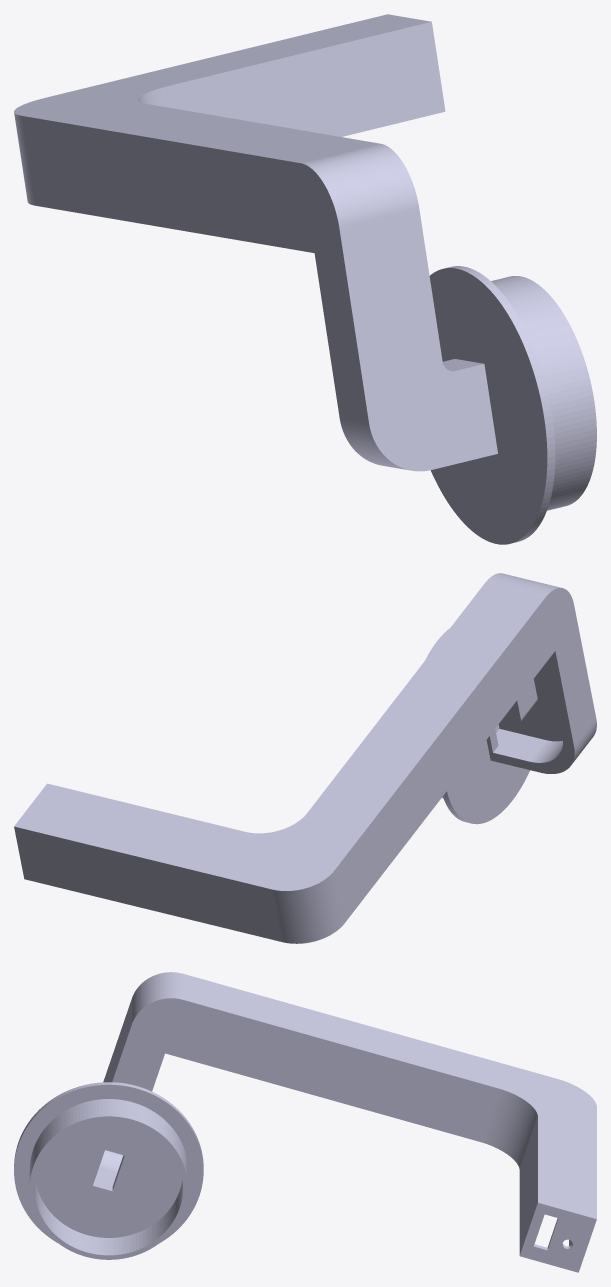
File: arducamsupport_r.dae
The picture shows the model from 3 angles, top to bottom: view 1: azimuth 30°, elevation 25°; view 2: azimuth 150°, elevation 25°; view 3: azimuth 270°, elevation 25°; orthographic projection. The views are drawn at different scales.
Visible parts, largest first — view 1: node0; view 2: node0; view 3: node0.
Part boxes in pixels (box(x1,y1,x2,y2)): node0: box(14, 14, 596, 544); node0: box(14, 573, 596, 943); node0: box(14, 972, 596, 1272).
Bounding box in the file's own units: 0.0742 × 0.1414 × 0.0649.
